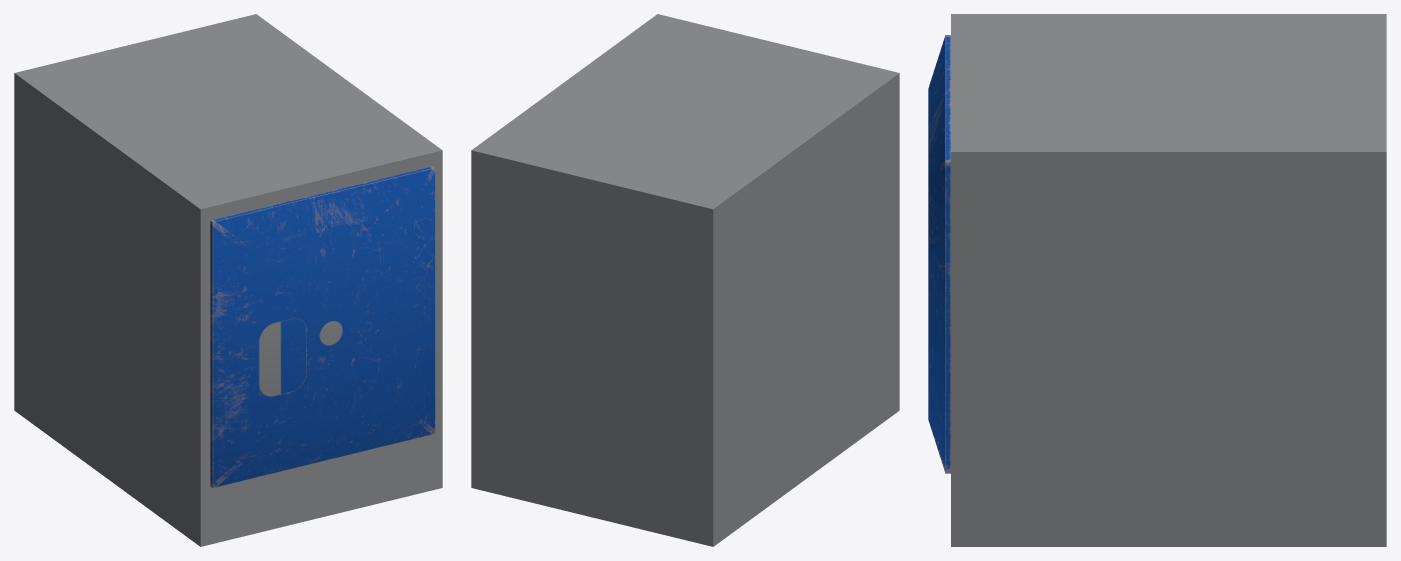
Rendered from Locker.fbx.
3 renders of one model, left to right at view 1: azimuth 30°, elevation 25°; view 2: azimuth 150°, elevation 25°; view 3: azimuth 270°, elevation 25°, orthographic. The views are drawn at different scales.
Parts seen in each view (by area): view 1: Locker_LP; view 2: Locker_LP; view 3: Locker_LP.
Part boxes in pixels (left/top/right/bottom): Locker_LP: left=14, top=14, right=442, bottom=546; Locker_LP: left=471, top=14, right=899, bottom=546; Locker_LP: left=928, top=14, right=1386, bottom=546.
Size of the model in its own units: 60 by 80 by 84.15.
